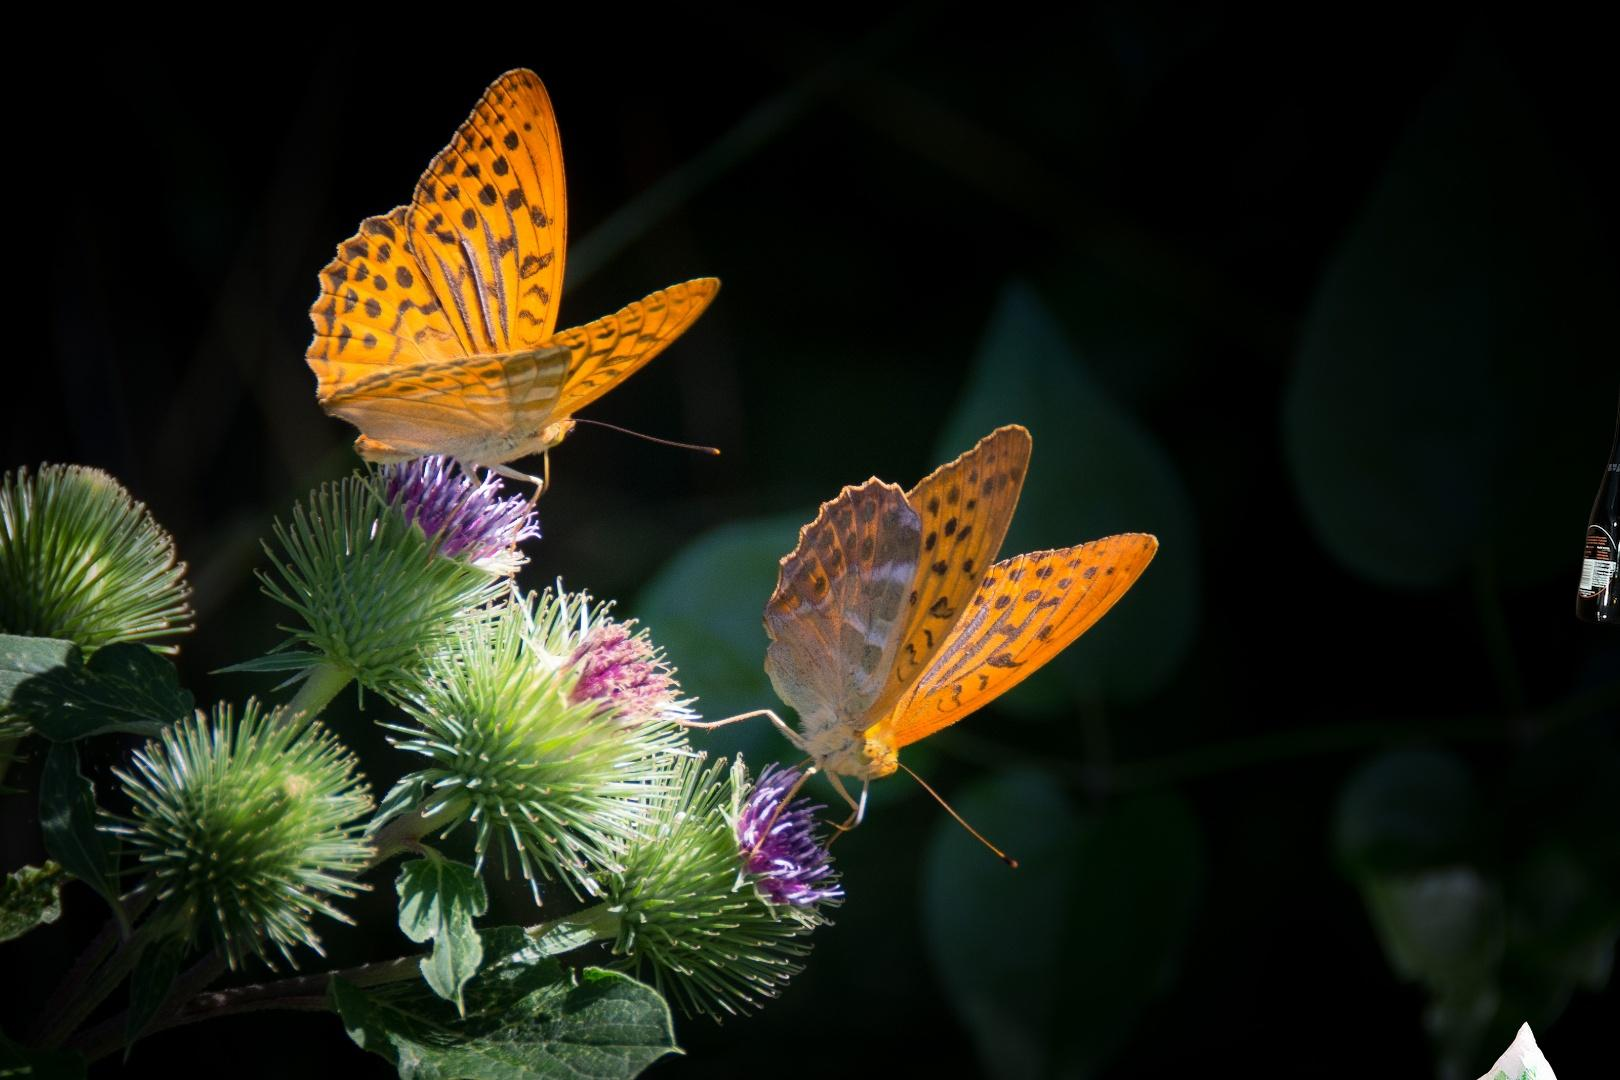glass: (1571, 360, 1620, 630)
plastic-bag: (1446, 1019, 1620, 1080)
